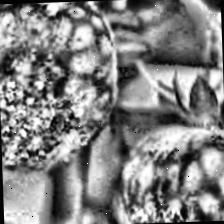Powdery Mildew Fruit: (0, 0, 121, 175), (106, 122, 224, 224)
